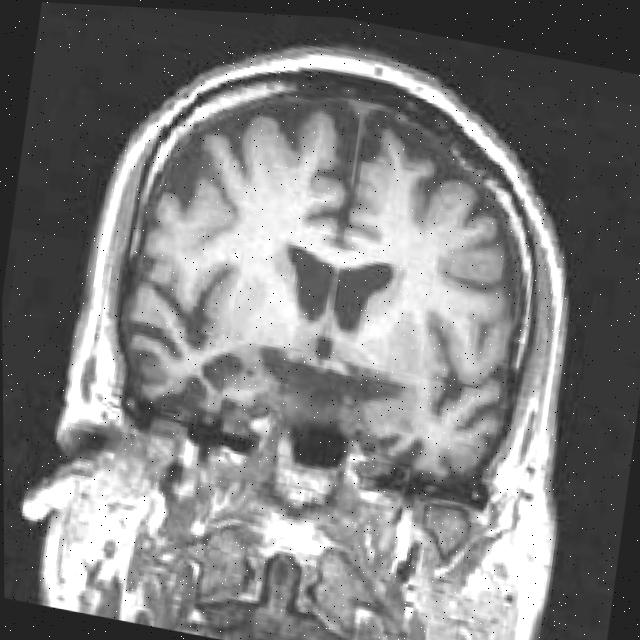NoTumor: (65, 3, 602, 505)
